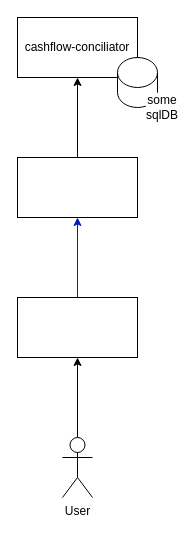
Image size: 196x536. Some labels were removed from this diagram. The shapes that lost their labels are listed below. From the top down, each one's centre as x and y in pixels, then its label:
At (77,187): "bff-admin-cashflow".
At (77,327): "portal-admin".
